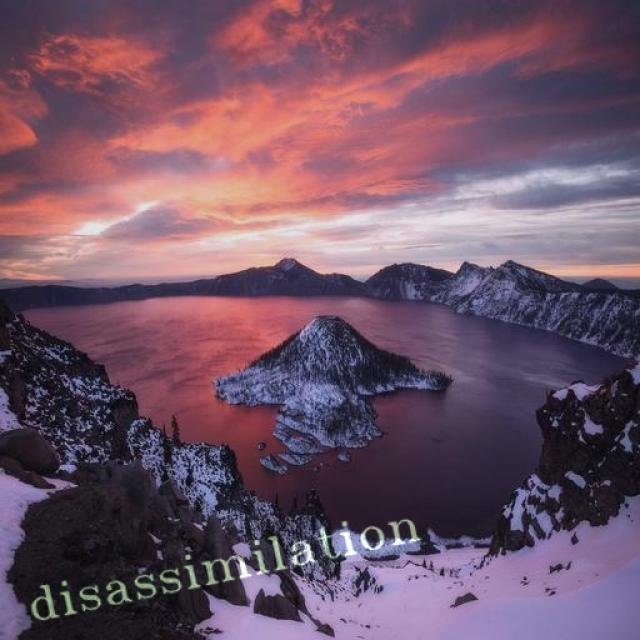watermark: (19, 502, 424, 630)
